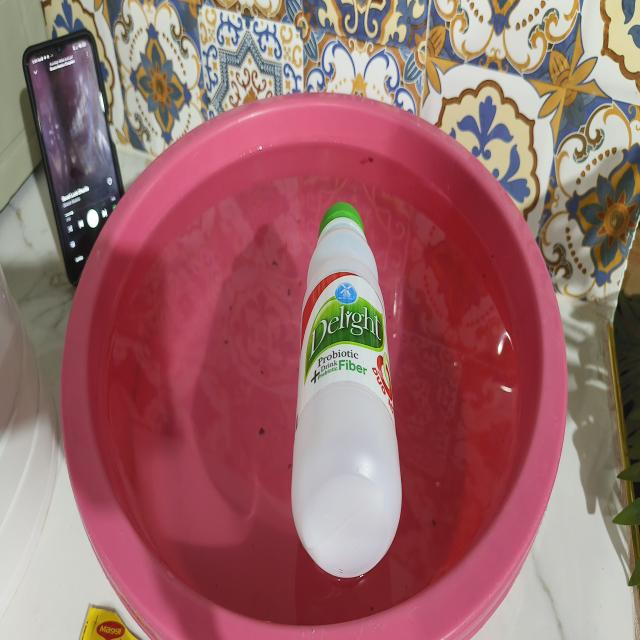Plastic Bottle: (292, 203, 402, 578)
